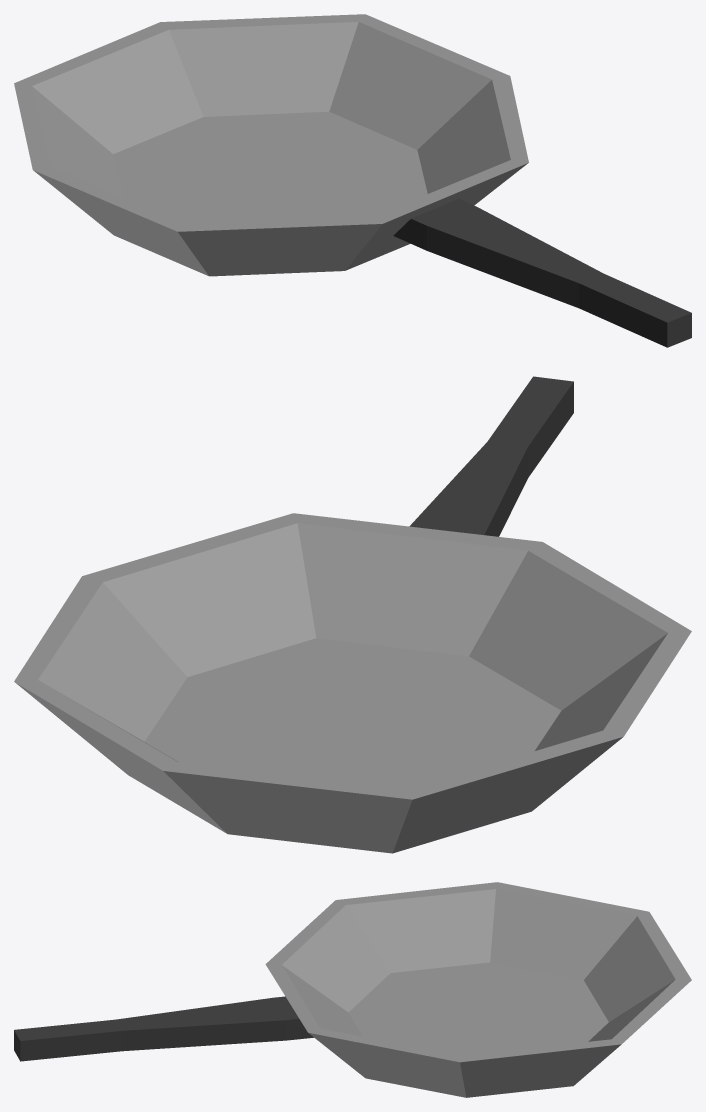
The model's file is Skillet.fbx.
3 renders of one model, top to bottom at view 1: azimuth 30°, elevation 25°; view 2: azimuth 150°, elevation 25°; view 3: azimuth 270°, elevation 25°, orthographic. The views are drawn at different scales.
Visible parts, largest first — view 1: Skillet; view 2: Skillet; view 3: Skillet.
Part boxes in pixels (<box>): Skillet: <box>14,14,691,347</box>; Skillet: <box>14,376,691,853</box>; Skillet: <box>14,882,691,1097</box>.
Size of the model in its own units: 41.24 by 65.55 by 7.28.
